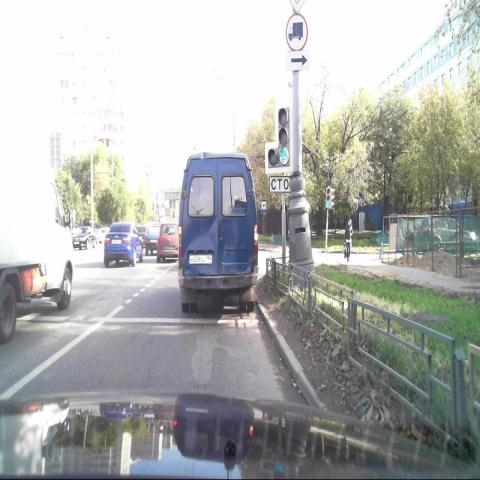8_3_1: (286, 51, 308, 70)
